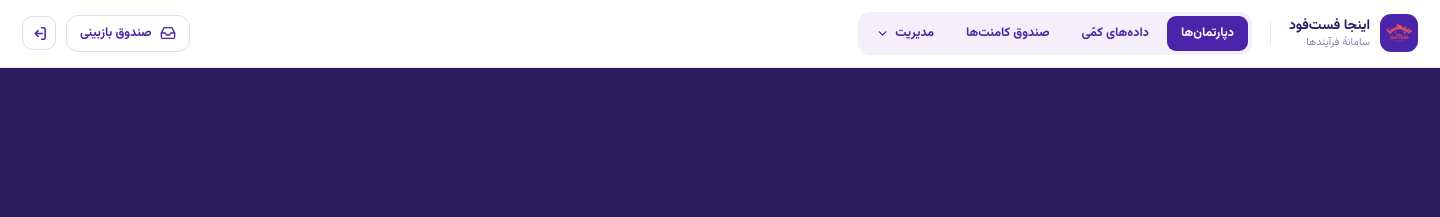
Test: the policy entry in the panel header › is not drawn for an editor who does not hold set_visibility
Click the button "مدیریت": (905, 33) [862,16,948,51]
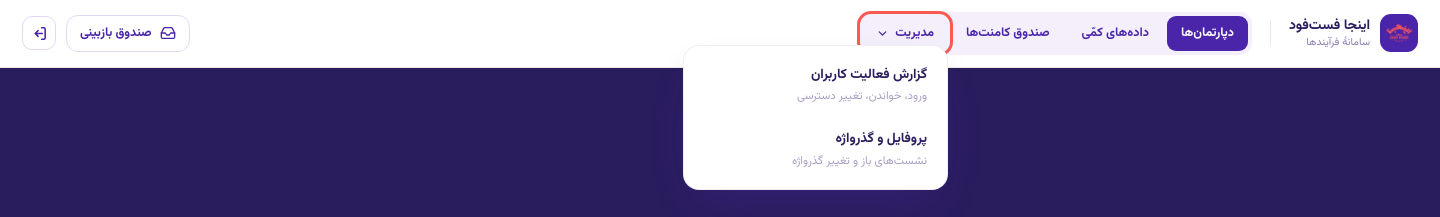
Expected: the menu is shown, [683,45,948,190]
